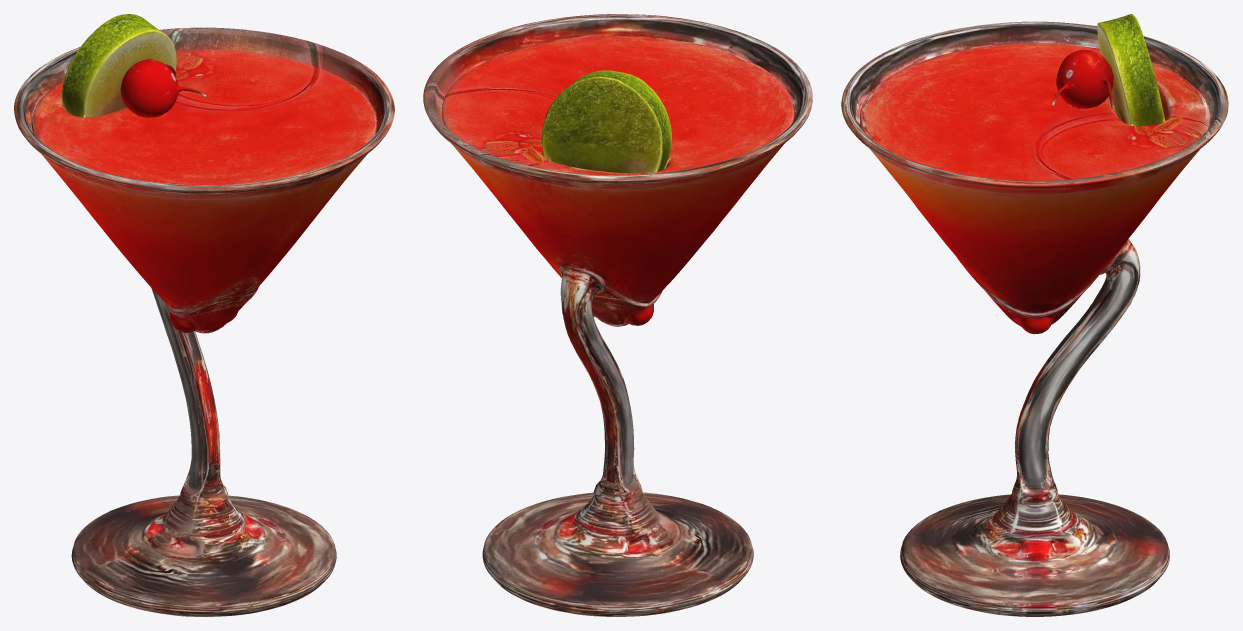
The model's file is modelo-08.glb.
3 renders of one model, left to right at view 1: azimuth 30°, elevation 25°; view 2: azimuth 150°, elevation 25°; view 3: azimuth 270°, elevation 25°, orthographic. The views are drawn at different scales.
Parts seen in each view (by area): view 1: tripo_node_62d19213-234f-40da-884a-84c228613e52; view 2: tripo_node_62d19213-234f-40da-884a-84c228613e52; view 3: tripo_node_62d19213-234f-40da-884a-84c228613e52.
Boxes of the visible parts, x1,y1,x2,y2 form: tripo_node_62d19213-234f-40da-884a-84c228613e52: [14, 14, 394, 616]; tripo_node_62d19213-234f-40da-884a-84c228613e52: [423, 14, 812, 616]; tripo_node_62d19213-234f-40da-884a-84c228613e52: [841, 14, 1228, 616].
Size of the model in its own units: 0.6521 by 0.9795 by 0.6549.
1 material, 1 textured.
